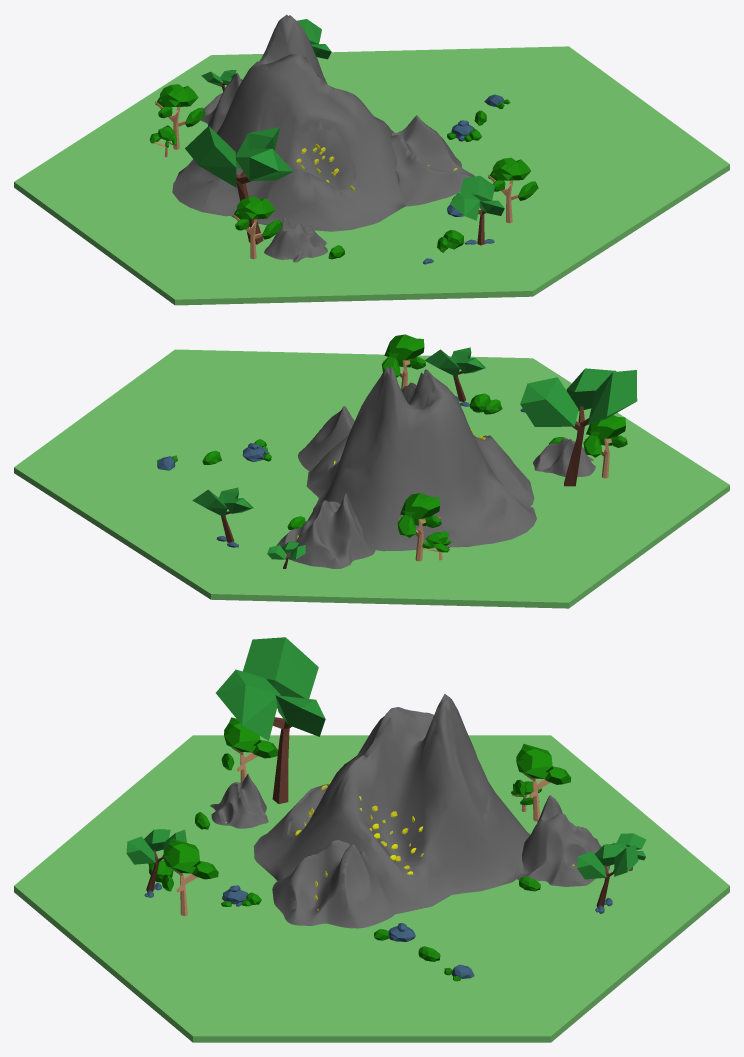
Rendered from Hexagone ressource or.fbx.
3 views of the same model, one above another, from view 1: azimuth 30°, elevation 25°; view 2: azimuth 150°, elevation 25°; view 3: azimuth 270°, elevation 25° (orthographic). The views are drawn at different scales.
Parts seen in each view (by area): view 1: Cylindre.002, Landscape.008, Landscape.009, Cube.047, Cube.018, Landscape.002, Icokugel.005, Icokugel.077, Icokugel.076, Landscape.001, Cube.062, Icokugel.024; view 2: Cylindre.002, Landscape.008, Cube.047, Landscape.001, Icokugel.076, Landscape.009, Icokugel.005, Landscape.002, Icokugel.077, Cube.062, Cube.018, Cube.061 (+2 smaller); view 3: Cylindre.002, Landscape.008, Cube.047, Landscape.009, Landscape.001, Landscape.002, Cube.062, Icokugel.077, Icokugel.076, Icokugel.005, Cube.018.
Boxes of the visible parts, left/top/right/bottom form: Cylindre.002: left=14, top=46, right=729, bottom=305; Landscape.008: left=172, top=14, right=405, bottom=231; Landscape.009: left=390, top=115, right=474, bottom=206; Cube.047: left=185, top=126, right=293, bottom=244; Cube.018: left=450, top=175, right=504, bottom=245; Landscape.002: left=264, top=217, right=327, bottom=262; Icokugel.005: left=232, top=196, right=282, bottom=259; Icokugel.077: left=488, top=157, right=538, bottom=223; Icokugel.076: left=155, top=84, right=205, bottom=149; Landscape.001: left=200, top=72, right=242, bottom=132; Cube.062: left=297, top=19, right=331, bottom=59; Icokugel.024: left=447, top=120, right=482, bottom=141; Cylindre.002: left=14, top=349, right=729, bottom=608; Landscape.008: left=306, top=366, right=536, bottom=551; Cube.047: left=520, top=368, right=637, bottom=486; Landscape.001: left=276, top=493, right=375, bottom=568; Icokugel.076: left=397, top=493, right=441, bottom=561; Landscape.009: left=298, top=406, right=354, bottom=471; Icokugel.005: left=583, top=415, right=627, bottom=478; Landscape.002: left=533, top=438, right=595, bottom=477; Icokugel.077: left=381, top=334, right=425, bottom=390; Cube.062: left=192, top=487, right=253, bottom=547; Cube.018: left=424, top=347, right=485, bottom=406; Cube.061: left=267, top=541, right=305, bottom=568; Cylindre.002: left=14, top=735, right=729, bottom=1042; Landscape.008: left=253, top=694, right=530, bottom=913; Cube.047: left=216, top=637, right=325, bottom=803; Landscape.009: left=272, top=840, right=395, bottom=928; Landscape.001: left=517, top=795, right=610, bottom=886; Landscape.002: left=210, top=773, right=268, bottom=828; Cube.062: left=577, top=844, right=638, bottom=913; Icokugel.077: left=161, top=838, right=218, bottom=915; Icokugel.076: left=514, top=744, right=571, bottom=821; Icokugel.005: left=221, top=717, right=278, bottom=781; Cube.018: left=126, top=829, right=186, bottom=897.
Bounding box in the file's own units: 2001 × 528 × 2011.
